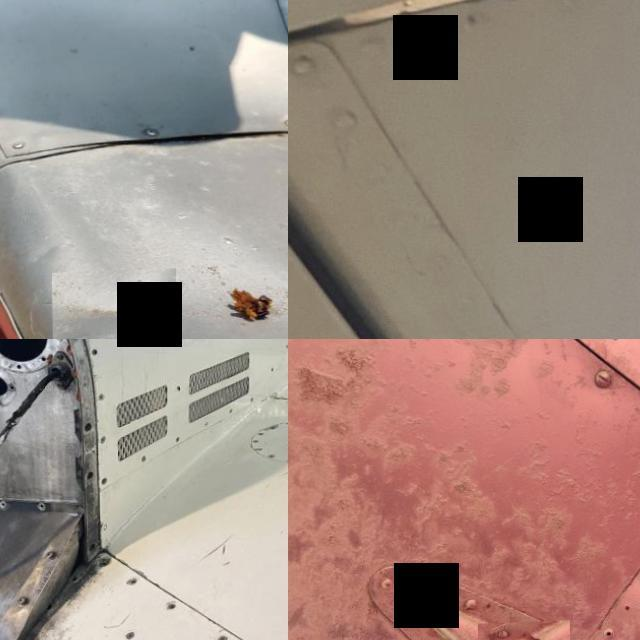Crack: (476, 622, 569, 640)
Dent: (51, 271, 176, 339)
Missing_Fastener: (163, 604, 177, 614), (125, 578, 138, 588), (90, 348, 98, 359), (174, 388, 182, 395), (285, 348, 288, 352), (270, 371, 272, 375)
